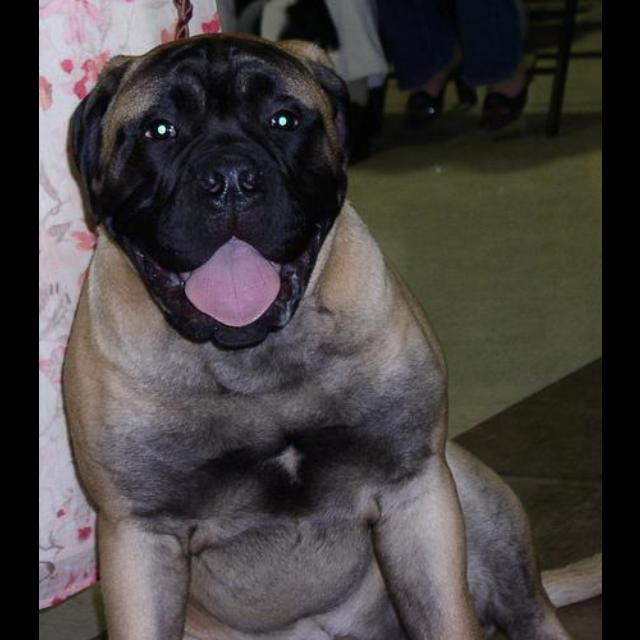bullmastiff: (60, 31, 601, 640)
